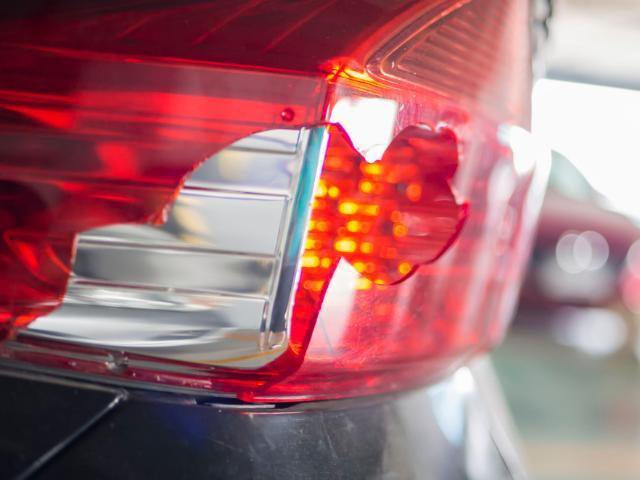Light: (24, 101, 486, 377)
